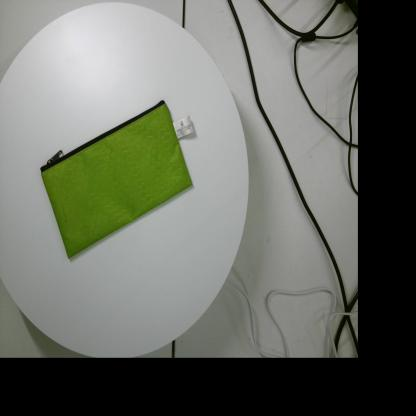Stationery: (40, 100, 194, 259)
